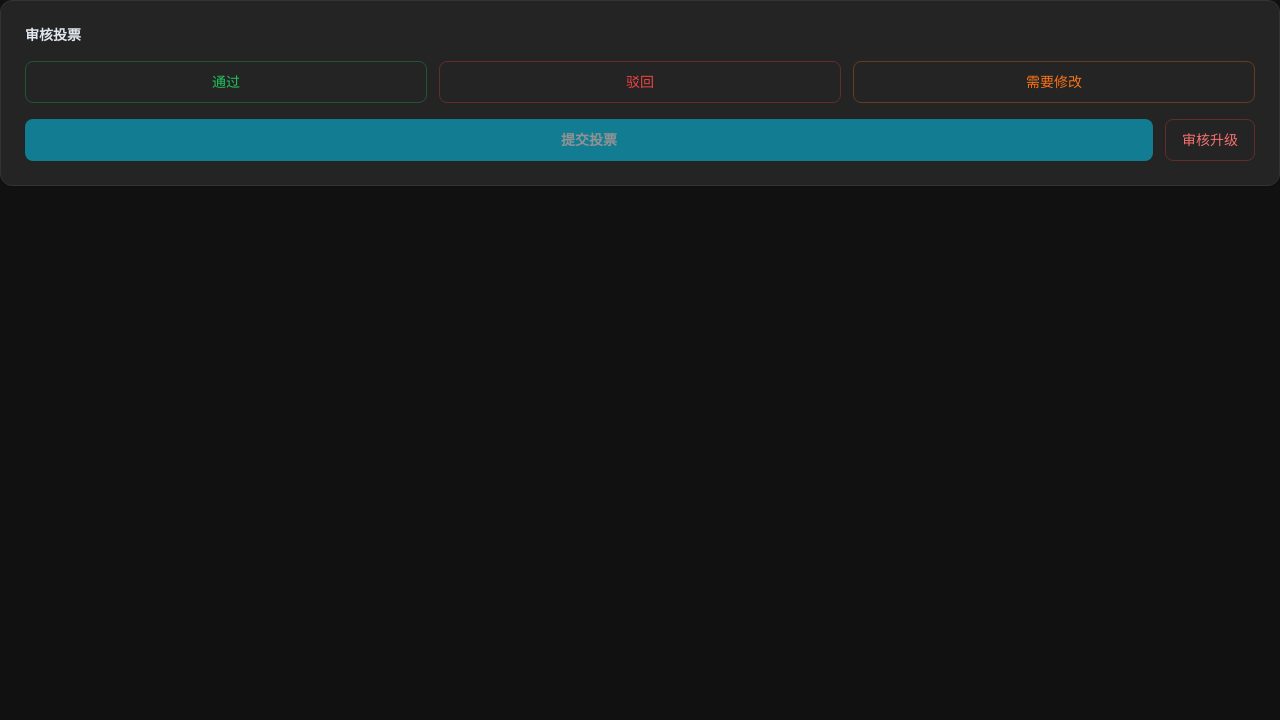
Test case: VotePanel › 点击"提交投票"应弹出确认弹窗
Click the button "通过" at (226, 82), box [25,61,427,103]
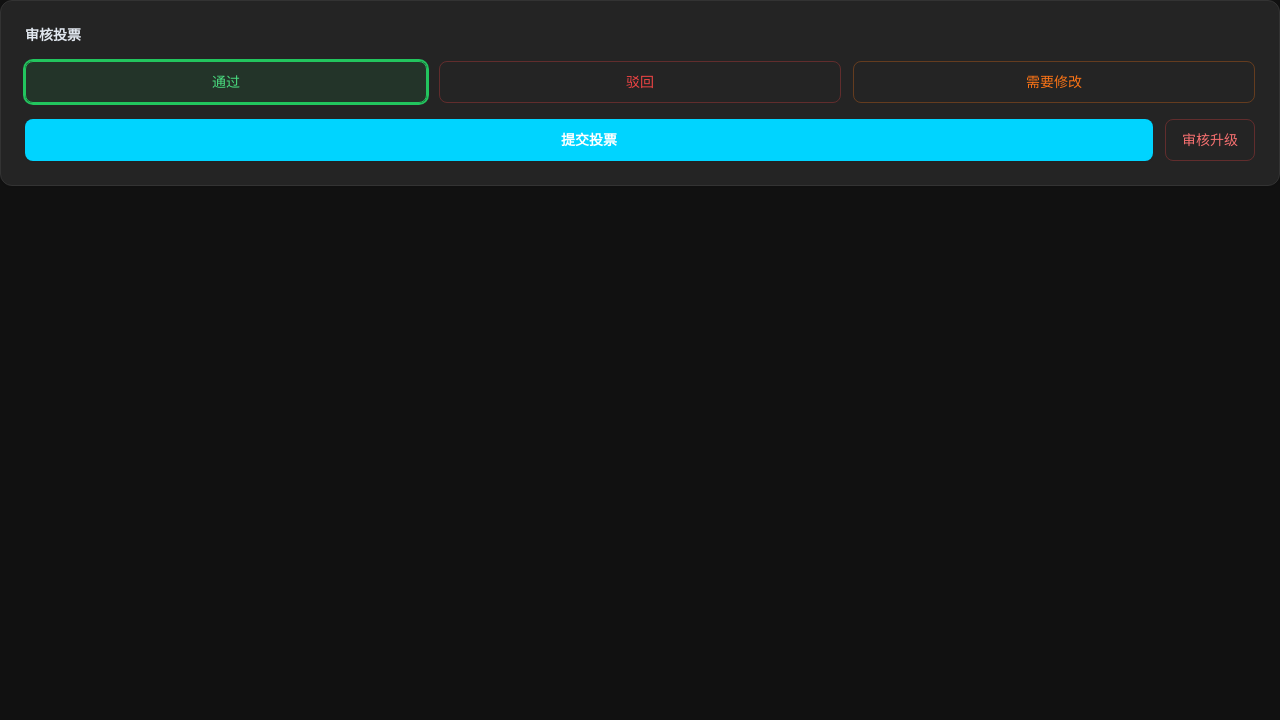
Click the button "提交投票" at (589, 140), box [25,119,1153,161]
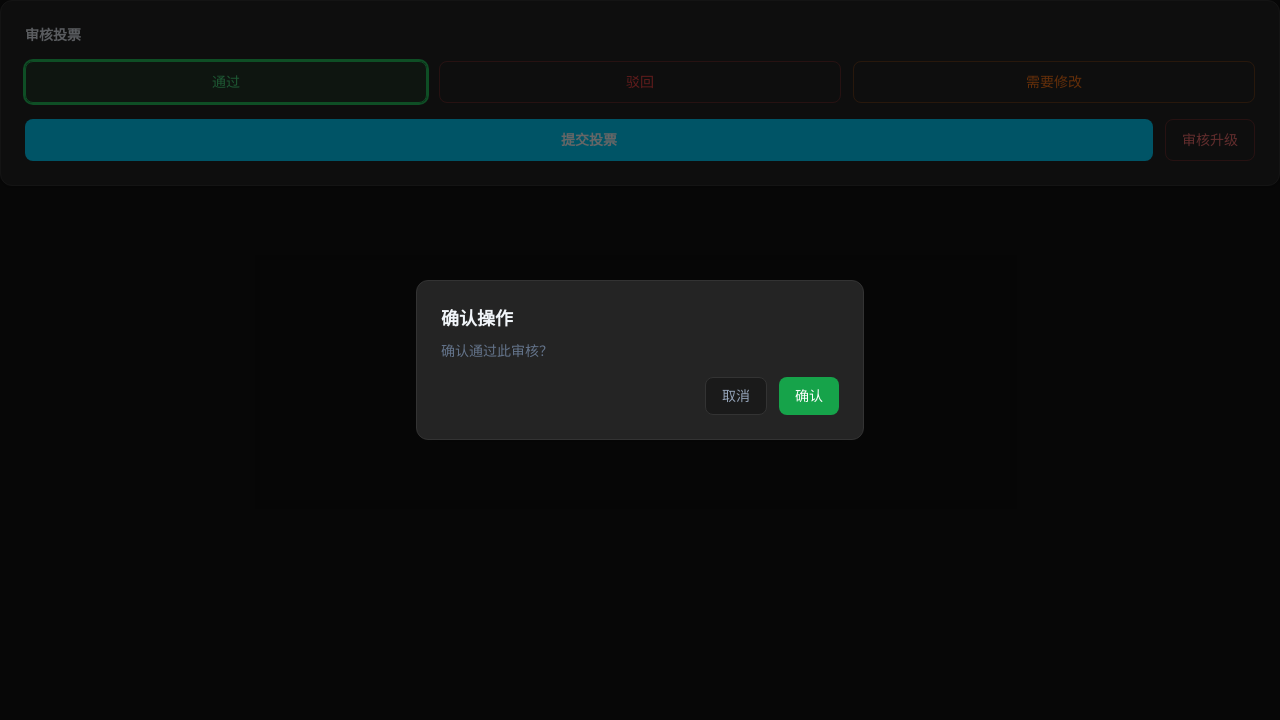
expect the heading "确认操作" is shown: met, box [441,308,513,329]
expect the text "确认通过此审核？" is shown: met, box [441,342,553,359]
